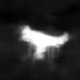plane: (17, 24, 71, 63)
